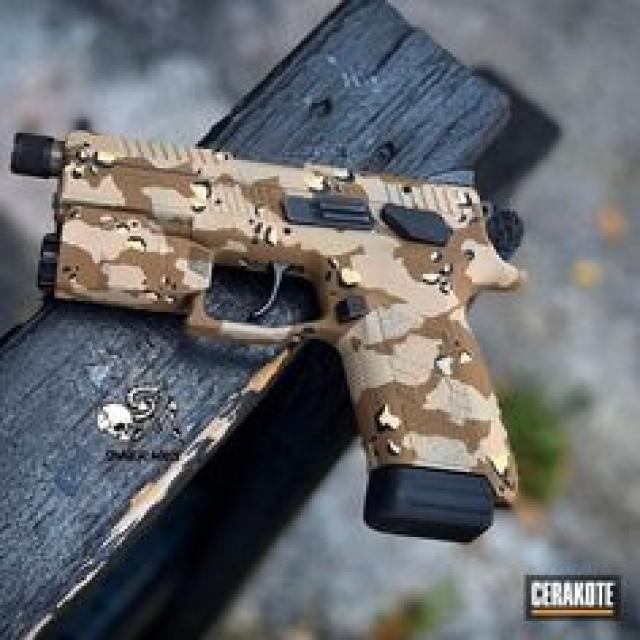semi automatic: (10, 113, 536, 570), (10, 116, 534, 564)
